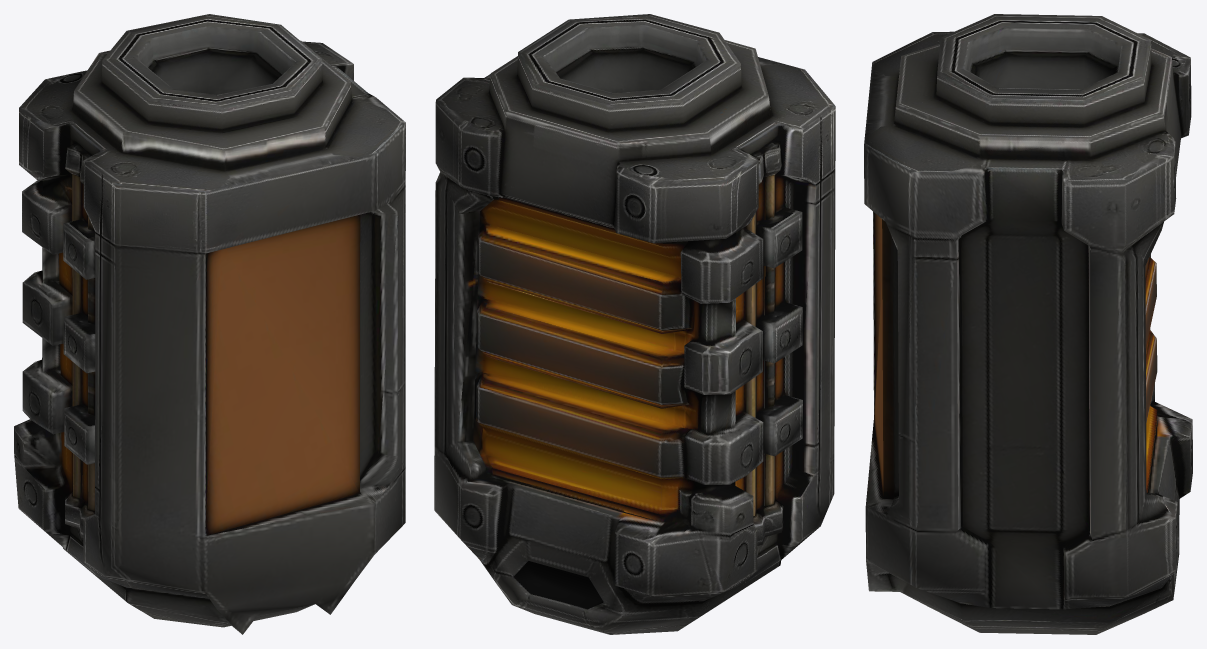
Rendered from cold-iron-v2-battery-c-capacitor.glb.
The picture shows the model from 3 angles, left to right: view 1: azimuth 30°, elevation 25°; view 2: azimuth 150°, elevation 25°; view 3: azimuth 270°, elevation 25°; orthographic projection. The views are drawn at different scales.
Visible parts, largest first — view 1: tripo_node_38fc8a66-8cc3-4419-bf75-c70b52de34ee; view 2: tripo_node_38fc8a66-8cc3-4419-bf75-c70b52de34ee; view 3: tripo_node_38fc8a66-8cc3-4419-bf75-c70b52de34ee.
Boxes of the visible parts, left/top/right/bottom form: tripo_node_38fc8a66-8cc3-4419-bf75-c70b52de34ee: left=14, top=14, right=405, bottom=634; tripo_node_38fc8a66-8cc3-4419-bf75-c70b52de34ee: left=434, top=14, right=835, bottom=634; tripo_node_38fc8a66-8cc3-4419-bf75-c70b52de34ee: left=864, top=14, right=1192, bottom=634.
Size of the model in its own units: 0.6222 by 0.9998 by 0.5558.
1 material, 1 textured.
